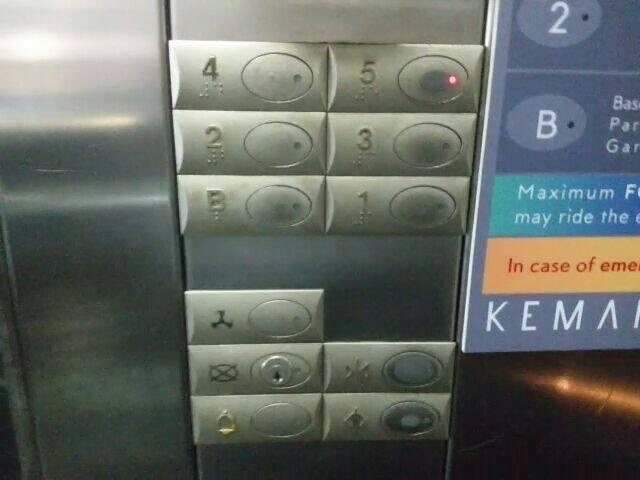1: (325, 172, 473, 239)
2: (167, 106, 331, 179), (514, 1, 606, 53)
3: (325, 108, 481, 180)
4: (166, 37, 332, 114)
5: (325, 38, 488, 117)
B: (174, 170, 329, 241), (503, 91, 589, 155)
alarm: (186, 391, 325, 448)
close: (320, 338, 461, 395)
fan: (179, 286, 327, 346)
open: (318, 391, 453, 446)
stop: (183, 340, 328, 398)
